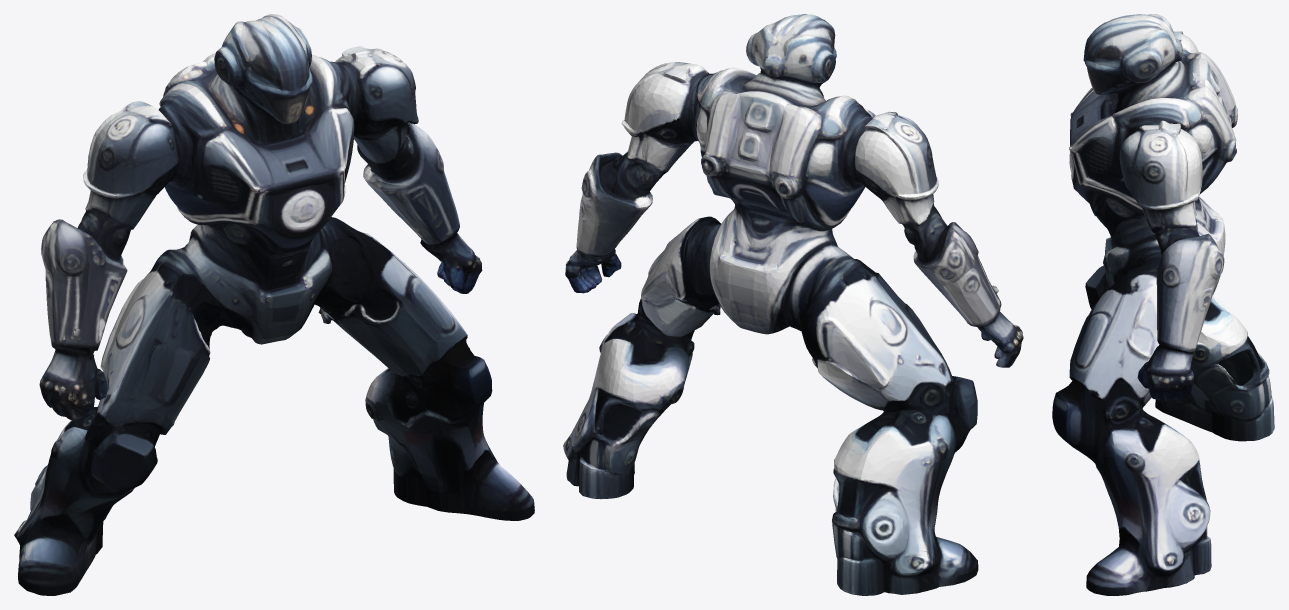
3 renders of one model, left to right at view 1: azimuth 30°, elevation 25°; view 2: azimuth 150°, elevation 25°; view 3: azimuth 270°, elevation 25°, orthographic. The views are drawn at different scales.
Parts seen in each view (by area): view 1: world; view 2: world; view 3: world.
Part boxes in pixels (<box>): world: <box>14,14,534,595</box>; world: <box>563,14,1023,595</box>; world: <box>1052,14,1274,595</box>.
Bounding box in the file's own units: 0.9496 × 1 × 0.4294.
1 material, 1 textured.
